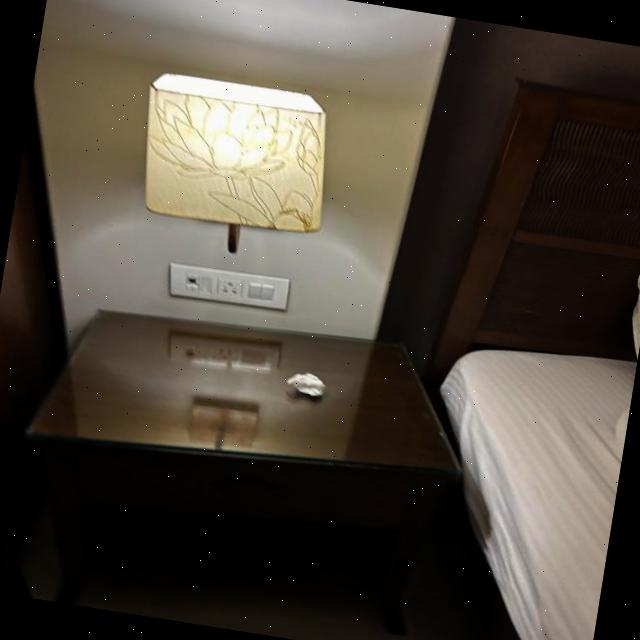lamp: (124, 64, 350, 264)
mess: (282, 363, 333, 408)
messy_table: (24, 309, 465, 630)
